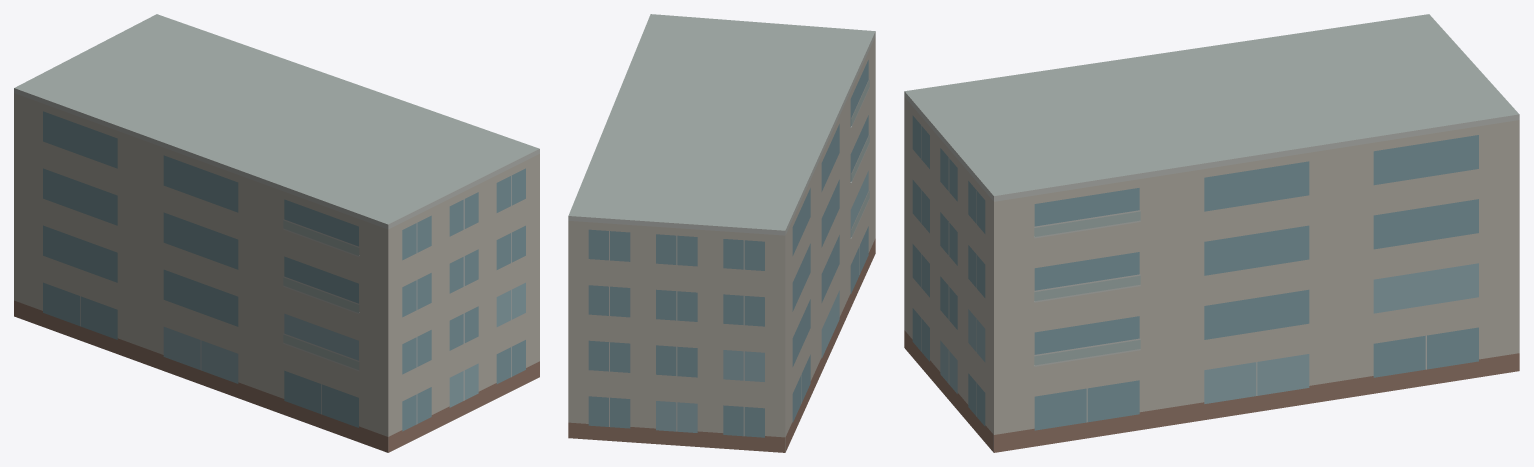
The model's file is survey-upis-33025713.glb.
3 views of the same model, side by side, from view 1: azimuth 30°, elevation 25°; view 2: azimuth 150°, elevation 25°; view 3: azimuth 270°, elevation 25° (orthographic). The views are drawn at different scales.
Visible parts, largest first — view 1: survey-upis-33025713.tmp; view 2: survey-upis-33025713.tmp; view 3: survey-upis-33025713.tmp.
Boxes of the visible parts, box(x1,y1,x2,y2) form: survey-upis-33025713.tmp: box(14, 14, 539, 452); survey-upis-33025713.tmp: box(568, 14, 875, 452); survey-upis-33025713.tmp: box(904, 14, 1519, 452).
Size of the model in its own units: 16.9 by 11.1 by 24.11.
